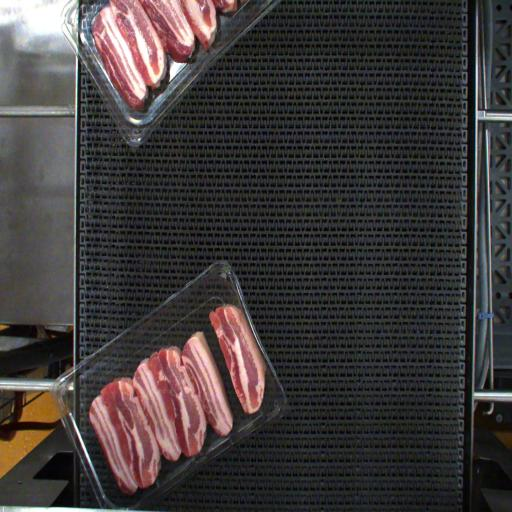loose-meat: (218, 301, 269, 423)
